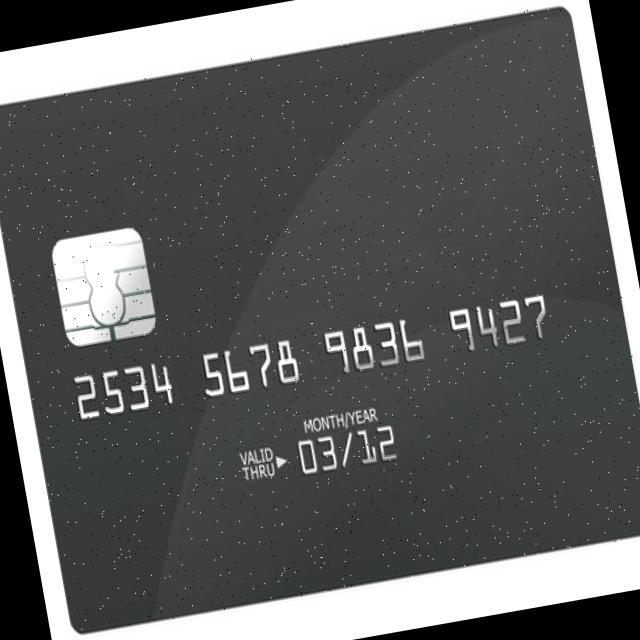payment_card: (0, 8, 639, 636)
